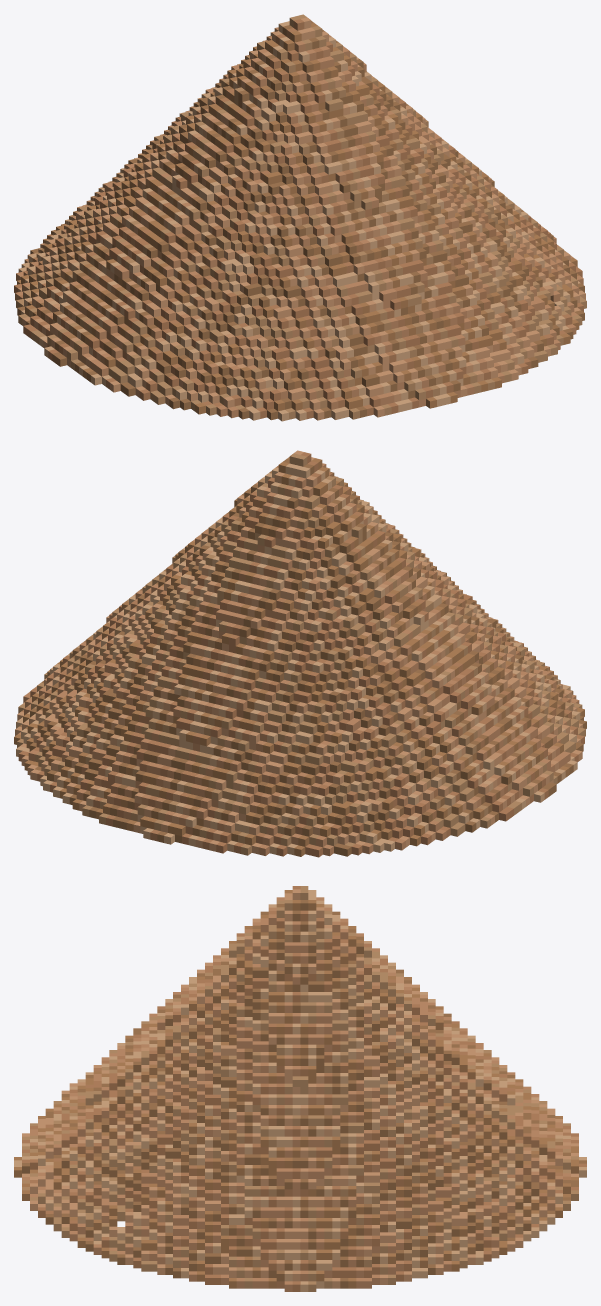
Rendered from conicalHat.obj.
The picture shows the model from 3 angles, top to bottom: view 1: azimuth 30°, elevation 25°; view 2: azimuth 150°, elevation 25°; view 3: azimuth 270°, elevation 25°; orthographic projection.
Size of the model in its own units: 7.2 by 4.6 by 7.2.
1 material, 1 textured.
